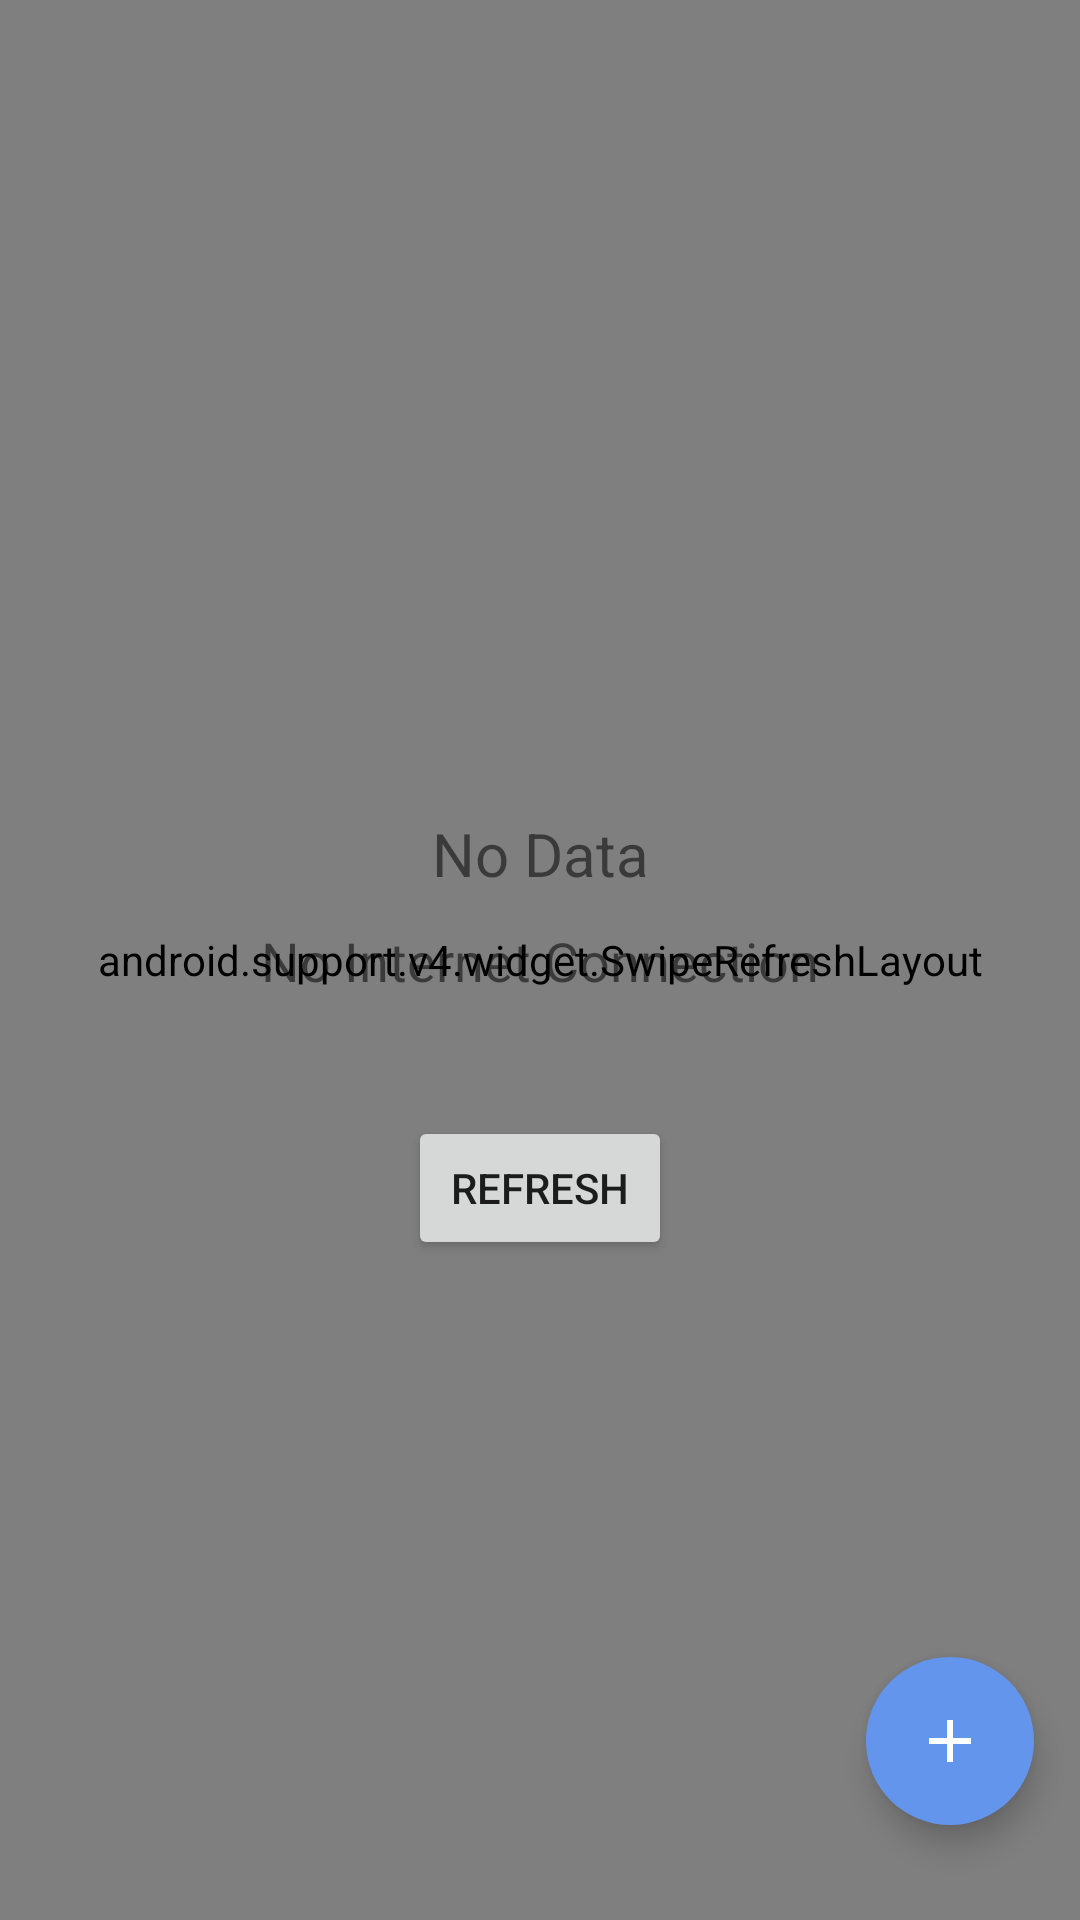

Icon bounding boxes for this 1080px x 1920px phone screenshot, format (x1, y1, x2, y2):
add news: (866, 1657, 1034, 1825)
